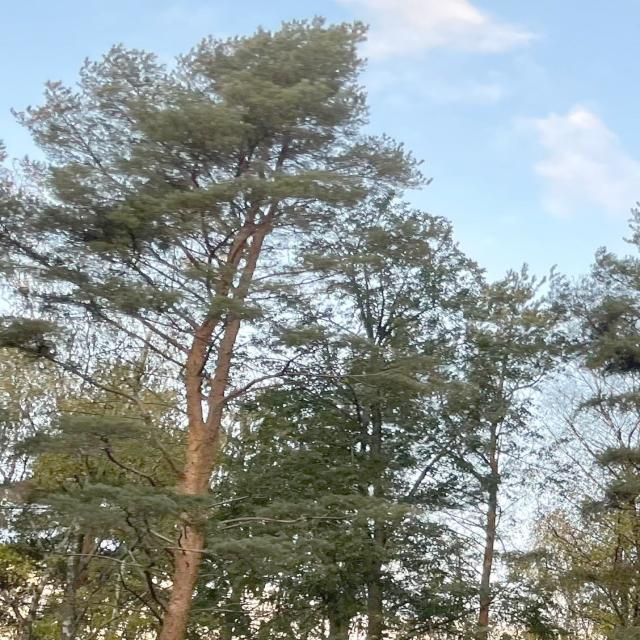pine: (16, 20, 454, 629)
